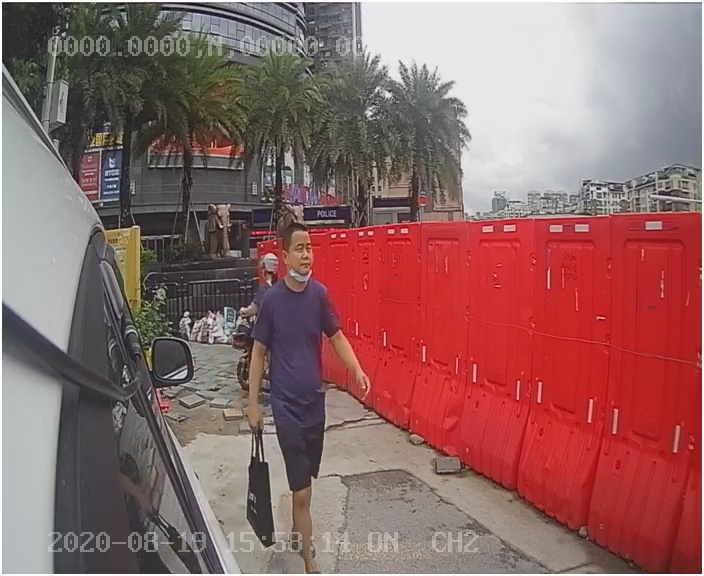person: (240, 223, 383, 524)
